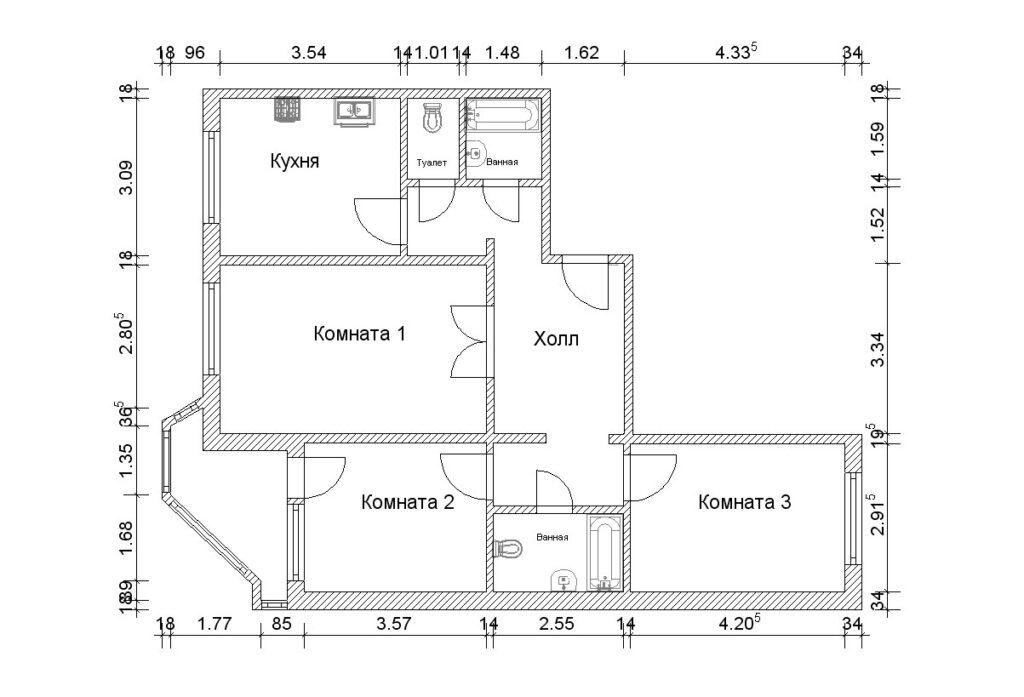balcony: (169, 408, 287, 601)
bathroom: (494, 514, 624, 593), (465, 97, 543, 179)
bedroom: (629, 443, 847, 593), (305, 443, 489, 592)
hallway: (407, 186, 626, 506)
living_room: (220, 265, 487, 435), (220, 98, 402, 258)
toilet: (408, 99, 460, 179)
